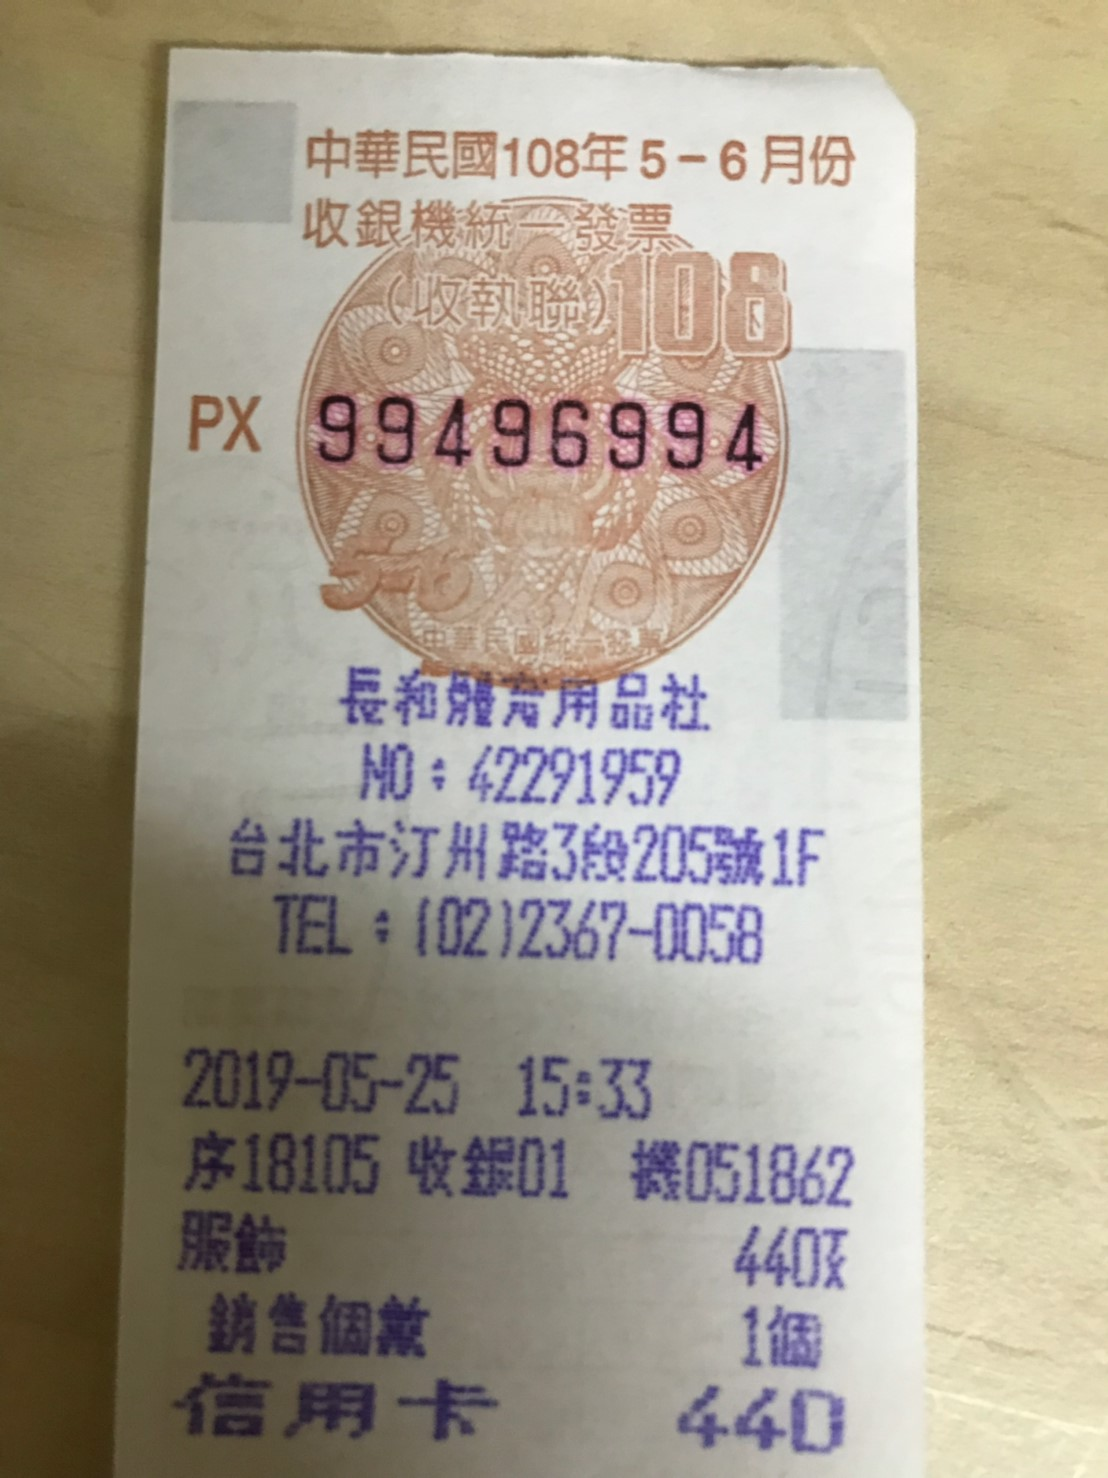Date_Old: (504, 126, 858, 190)
Number_Old: (306, 382, 770, 479)
